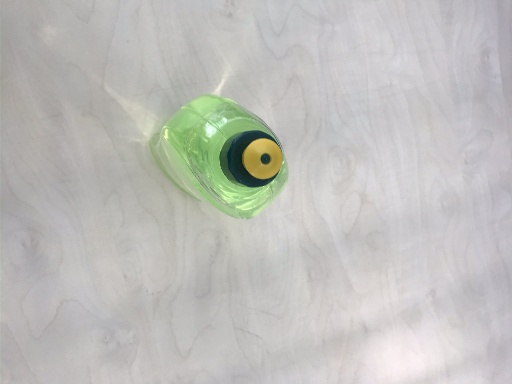Sapone: (148, 92, 292, 220)
